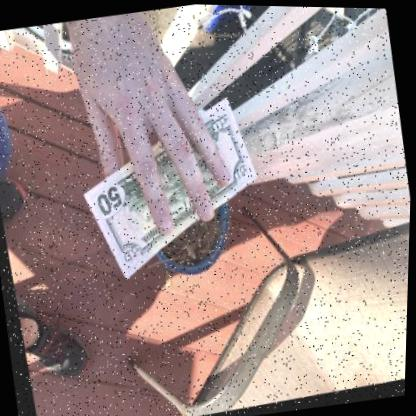fifty-back: (81, 97, 256, 280)
